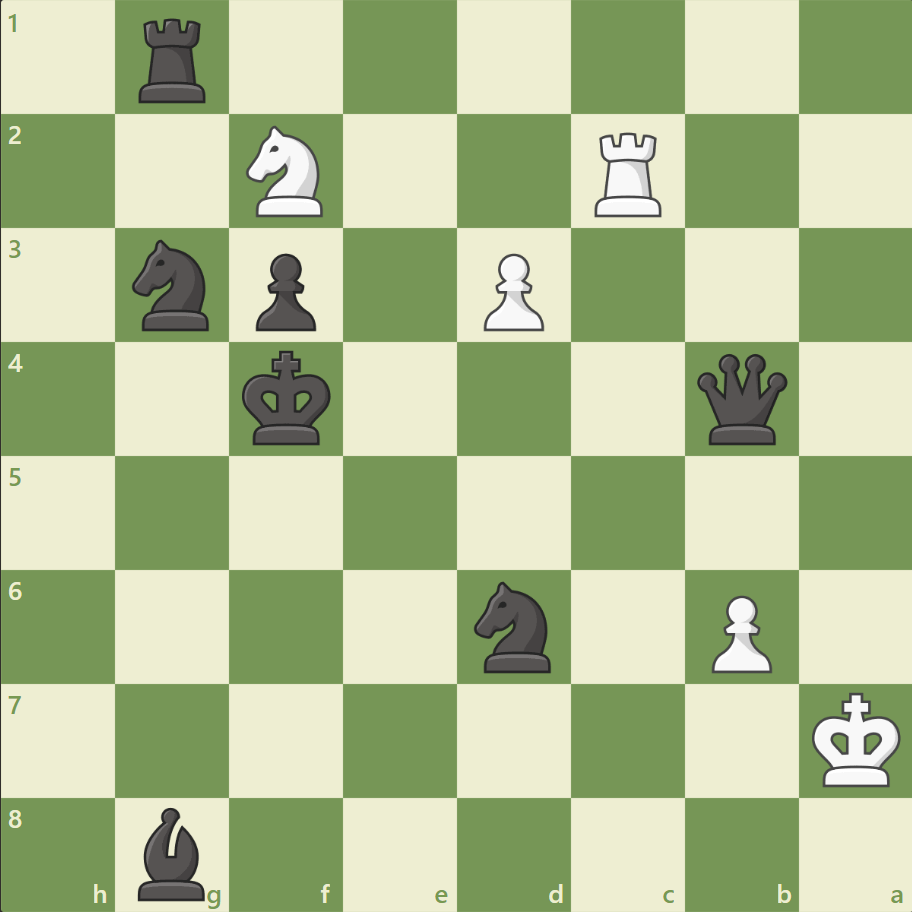K: (806, 685, 906, 793)
N: (238, 121, 335, 223)
P: (701, 586, 776, 677), (474, 246, 549, 337)
R: (587, 125, 670, 222)
b: (131, 801, 215, 904)
k: (238, 344, 338, 452)
n: (124, 234, 222, 337), (465, 575, 562, 677)
p: (247, 246, 322, 337)
q: (691, 349, 790, 449)
r: (133, 12, 215, 109)
